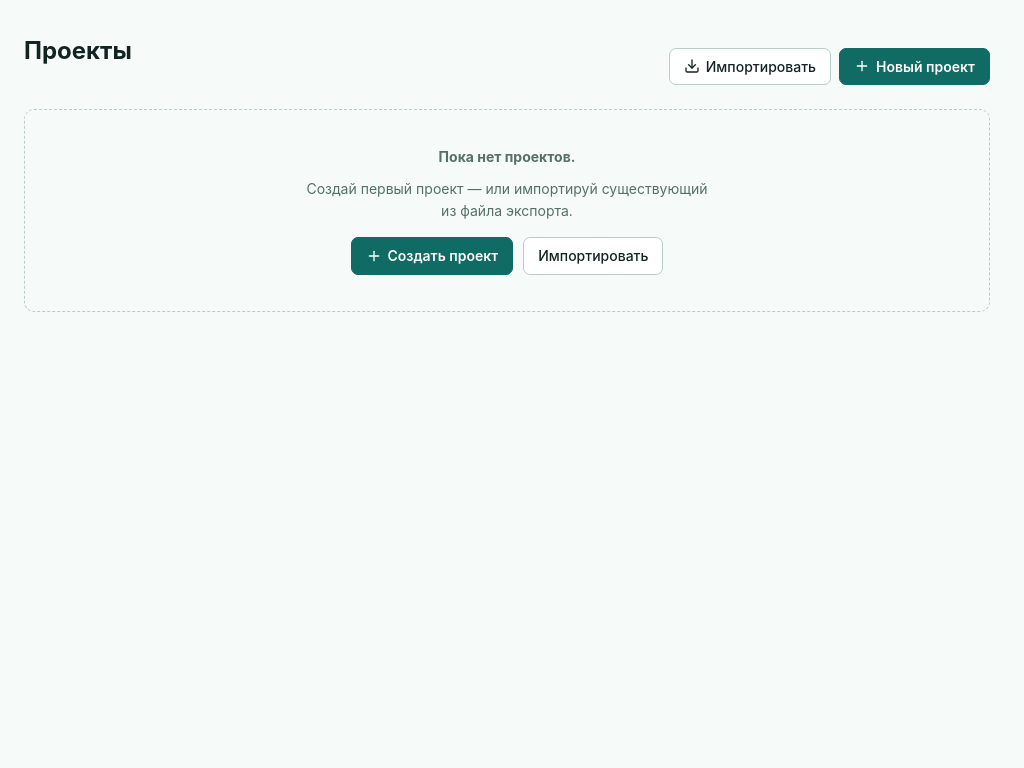
Test case: ProjectListPage › opens the create dialog from the empty state without crashing and closes on cancel
Click the button "Создать проект" at {"x": 432, "y": 256}, box x1=350 y1=237 x2=513 y2=275
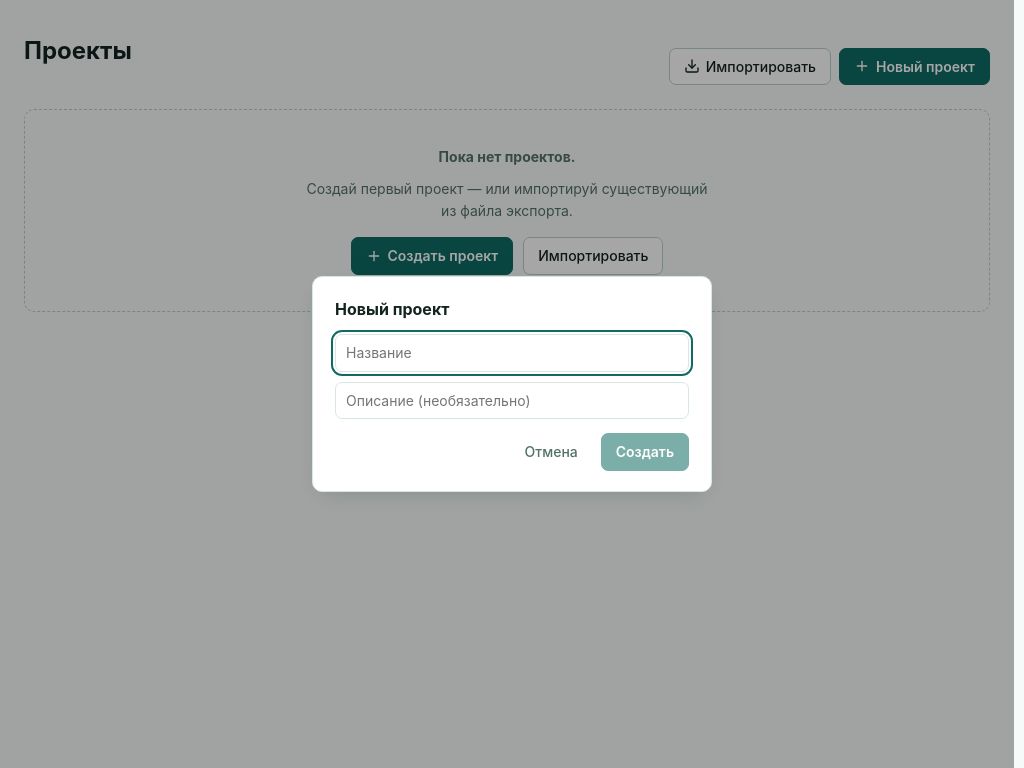
Check: the dialog is shown, box x1=312 y1=276 x2=712 y2=492
Click the button "Отмена" at {"x": 551, "y": 452}, box x1=510 y1=433 x2=593 y2=471
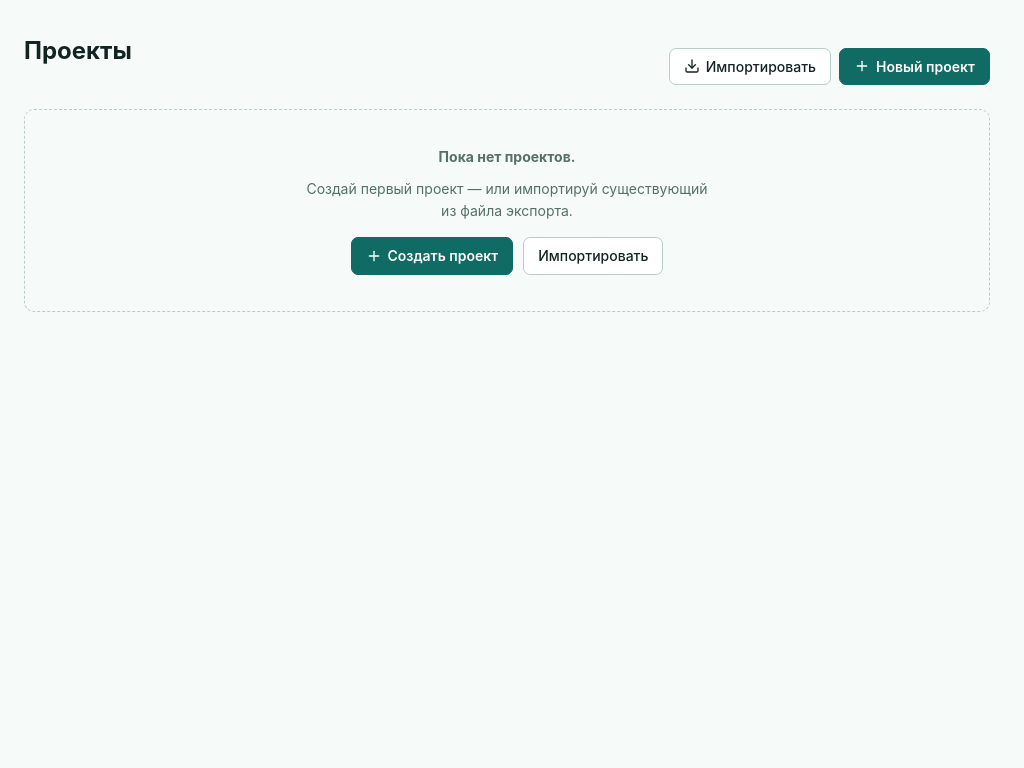
Check: the dialog is gone
